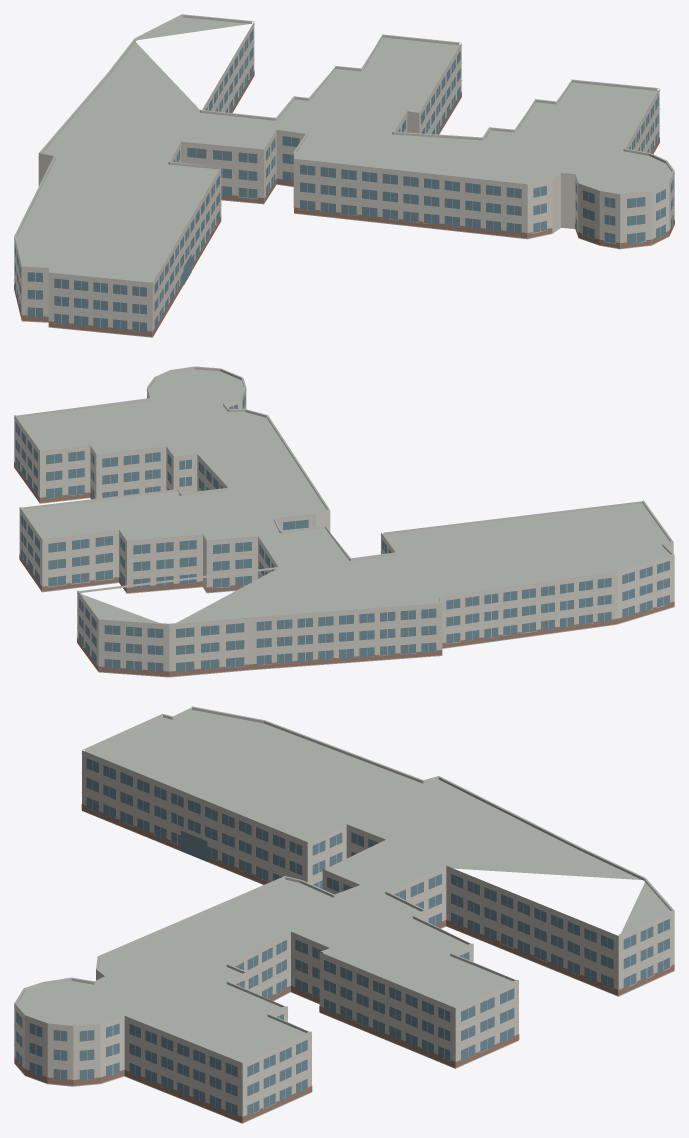
File: public-28bea638-23ba-4790-9212-663774b4ac3b.glb
3 views of the same model, one above another, from view 1: azimuth 30°, elevation 25°; view 2: azimuth 150°, elevation 25°; view 3: azimuth 270°, elevation 25° (orthographic). The views are drawn at different scales.
Parts seen in each view (by area): view 1: public-28bea638-23ba-4790-9212-663774b4ac3b; view 2: public-28bea638-23ba-4790-9212-663774b4ac3b; view 3: public-28bea638-23ba-4790-9212-663774b4ac3b.
Part boxes in pixels (x1,y1,x2,y2): public-28bea638-23ba-4790-9212-663774b4ac3b: (14,14,674,337); public-28bea638-23ba-4790-9212-663774b4ac3b: (14,366,674,677); public-28bea638-23ba-4790-9212-663774b4ac3b: (14,706,674,1123).
Bounding box in the file's own units: 115 × 9.15 × 90.18.
